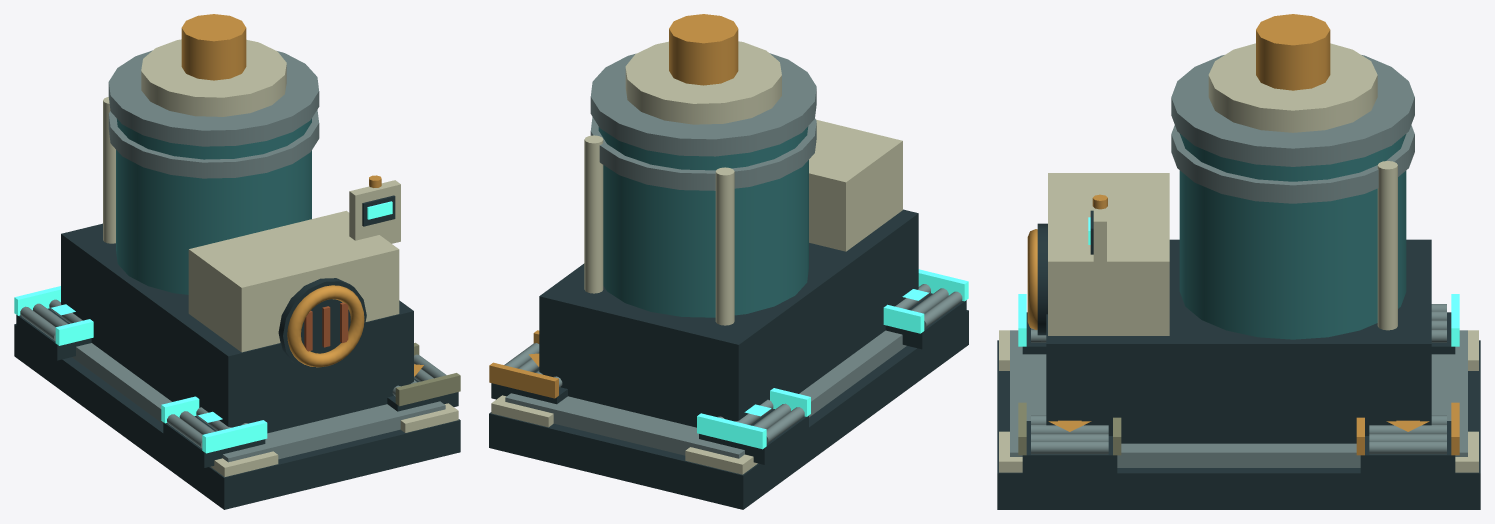
The model's file is refinery.glb.
The picture shows the model from 3 angles, left to right: view 1: azimuth 30°, elevation 25°; view 2: azimuth 150°, elevation 25°; view 3: azimuth 270°, elevation 25°; orthographic projection. The views are drawn at different scales.
Visible parts, largest first — view 1: Batched static factory; view 2: Batched static factory; view 3: Batched static factory.
Boxes of the visible parts, x1,y1,x2,y2 form: Batched static factory: (14, 14, 460, 509); Batched static factory: (489, 14, 968, 509); Batched static factory: (997, 14, 1480, 509).
Bounding box in the file's own units: 2 × 2.7 × 2.86.
